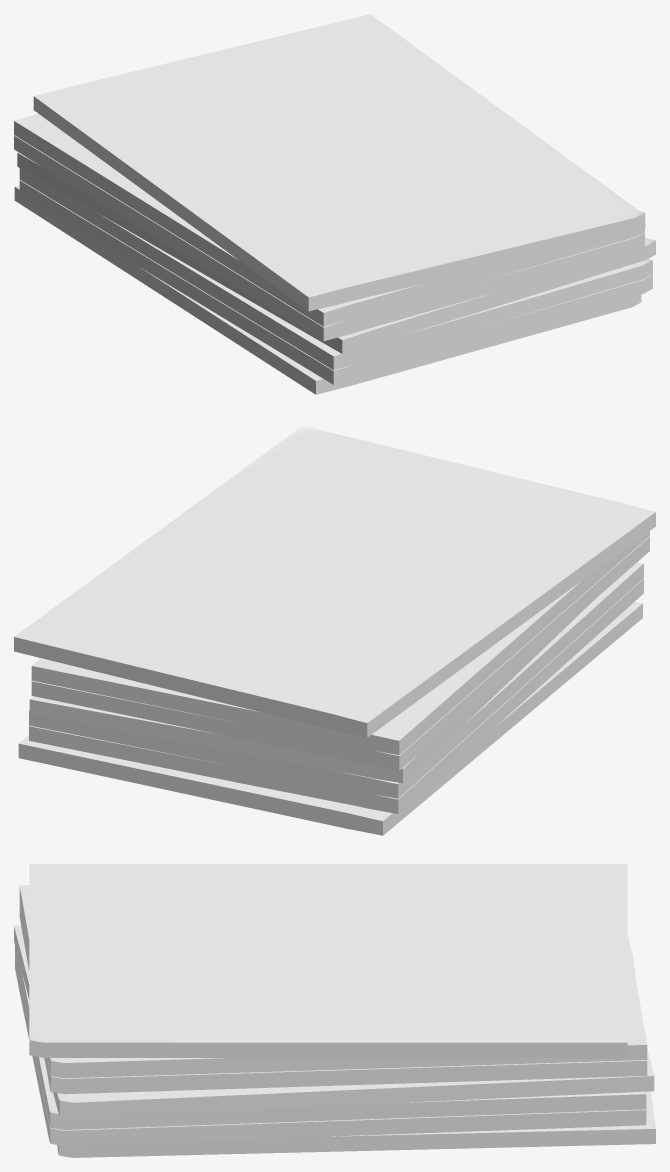
File: Papers 1.FBX
3 renders of one model, top to bottom at view 1: azimuth 30°, elevation 25°; view 2: azimuth 150°, elevation 25°; view 3: azimuth 270°, elevation 25°, orthographic. The views are drawn at different scales.
Parts seen in each view (by area): view 1: Papers 1; view 2: Papers 1; view 3: Papers 1.
Part boxes in pixels (box(x1,y1,x2,y2)): Papers 1: box(14, 14, 655, 394); Papers 1: box(14, 423, 655, 835); Papers 1: box(14, 864, 655, 1157).
Size of the model in its own units: 24.05 by 6.23 by 31.82.
1 material, 1 textured.
